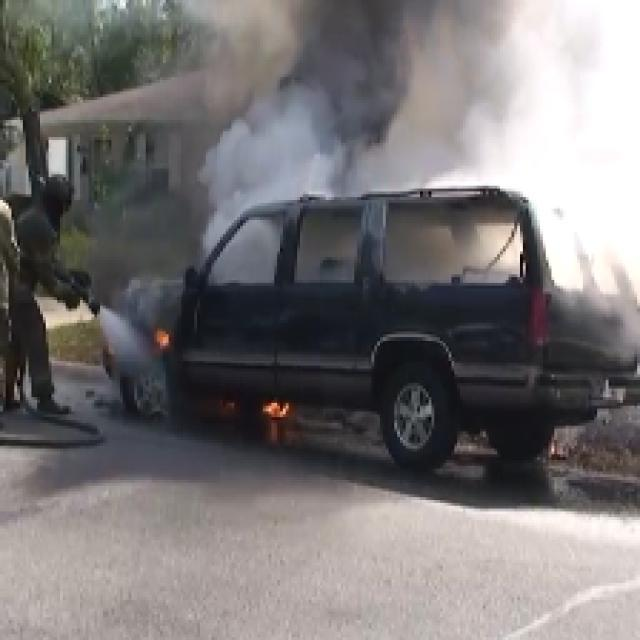Smoke: (260, 17, 618, 186)
